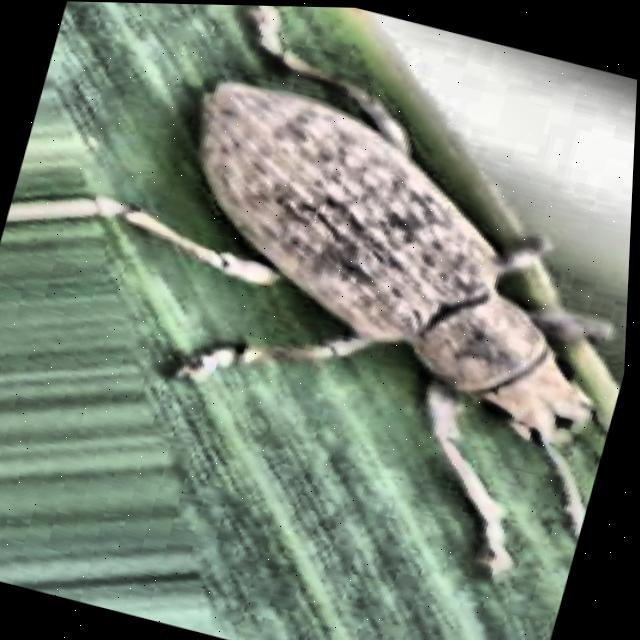Stink bug: (0, 12, 640, 551)
